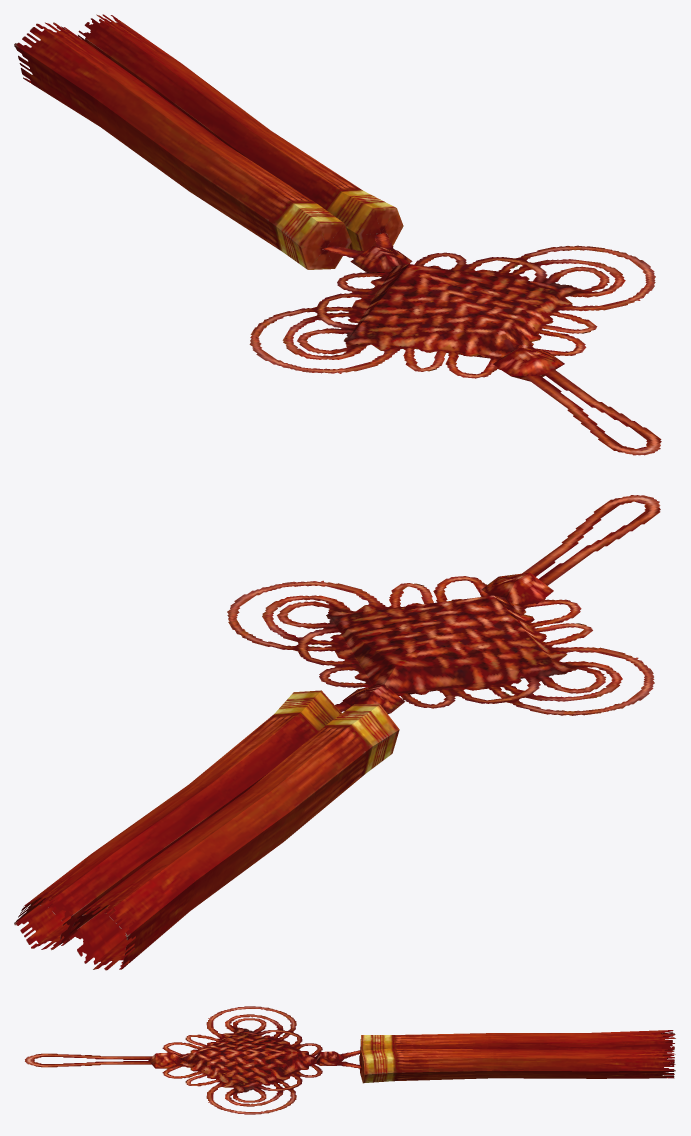
Rendered from zhongguojie.obj.
3 renders of one model, top to bottom at view 1: azimuth 30°, elevation 25°; view 2: azimuth 150°, elevation 25°; view 3: azimuth 270°, elevation 25°, orthographic. The views are drawn at different scales.
Visible parts, largest first — view 1: zhongguojie; view 2: zhongguojie; view 3: zhongguojie.
Part boxes in pixels (box(x1,y1,x2,y2)): zhongguojie: box(14, 14, 661, 455); zhongguojie: box(14, 495, 660, 970); zhongguojie: box(25, 1006, 675, 1114).
Bounding box in the file's own units: 42.95 × 5.24 × 98.16.
Materials: 2 (2 with a texture image).
